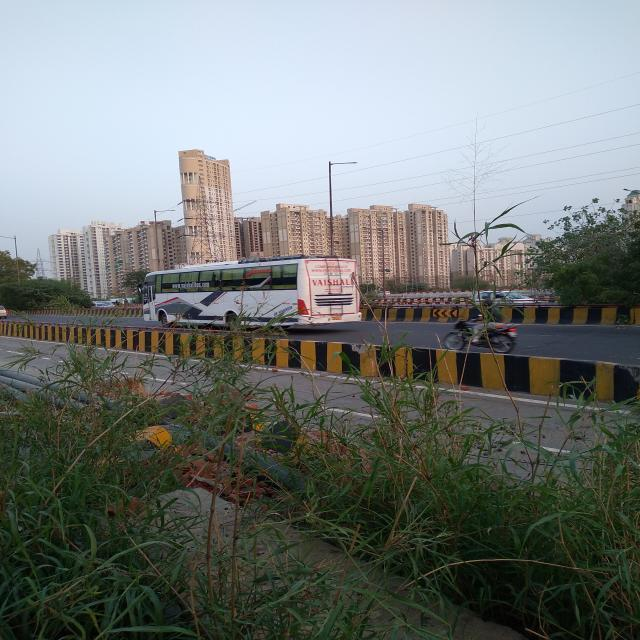bus_back: (133, 250, 374, 334)
